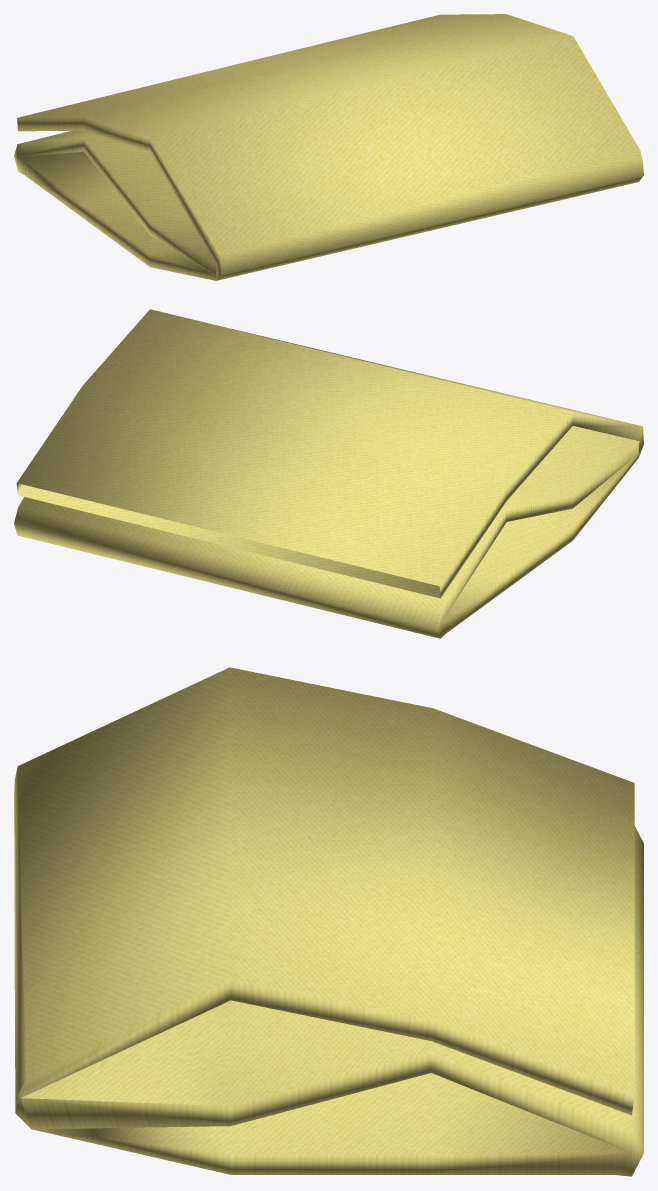
The model's file is Blanket_C.FBX.
The picture shows the model from 3 angles, top to bottom: view 1: azimuth 30°, elevation 25°; view 2: azimuth 150°, elevation 25°; view 3: azimuth 270°, elevation 25°; orthographic projection. The views are drawn at different scales.
Parts seen in each view (by area): view 1: Blanket; view 2: Blanket; view 3: Blanket.
Boxes of the visible parts, x1,y1,x2,y2 form: Blanket: [14, 14, 643, 280]; Blanket: [14, 309, 643, 638]; Blanket: [14, 667, 643, 1176].
Size of the model in its own units: 123 by 35.98 by 105.
